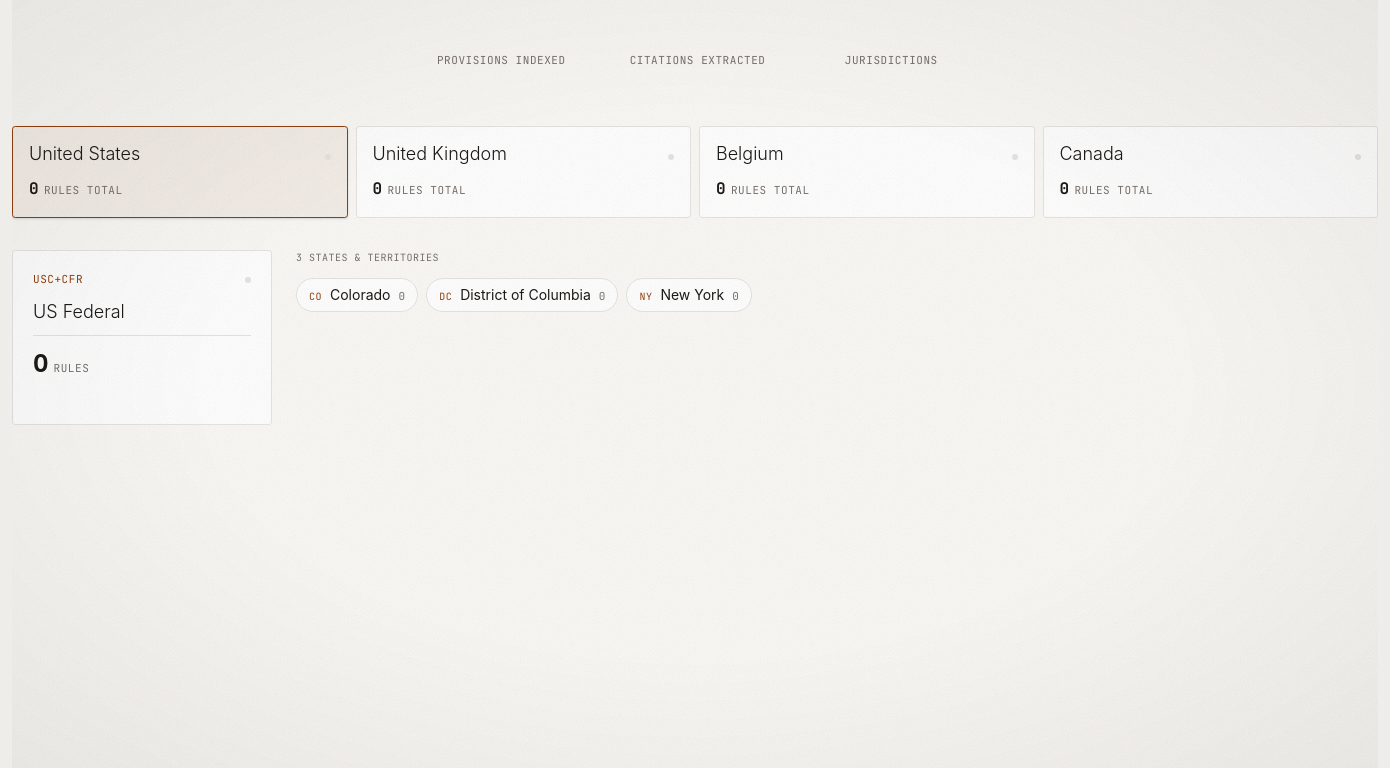
Test: AxiomStats › shows Belgium sub-jurisdictions when RuleSpec counts are present
Click the tab "Belgium 0 rules total" at (750, 153), box x1=699 y1=126 x2=1034 y2=218
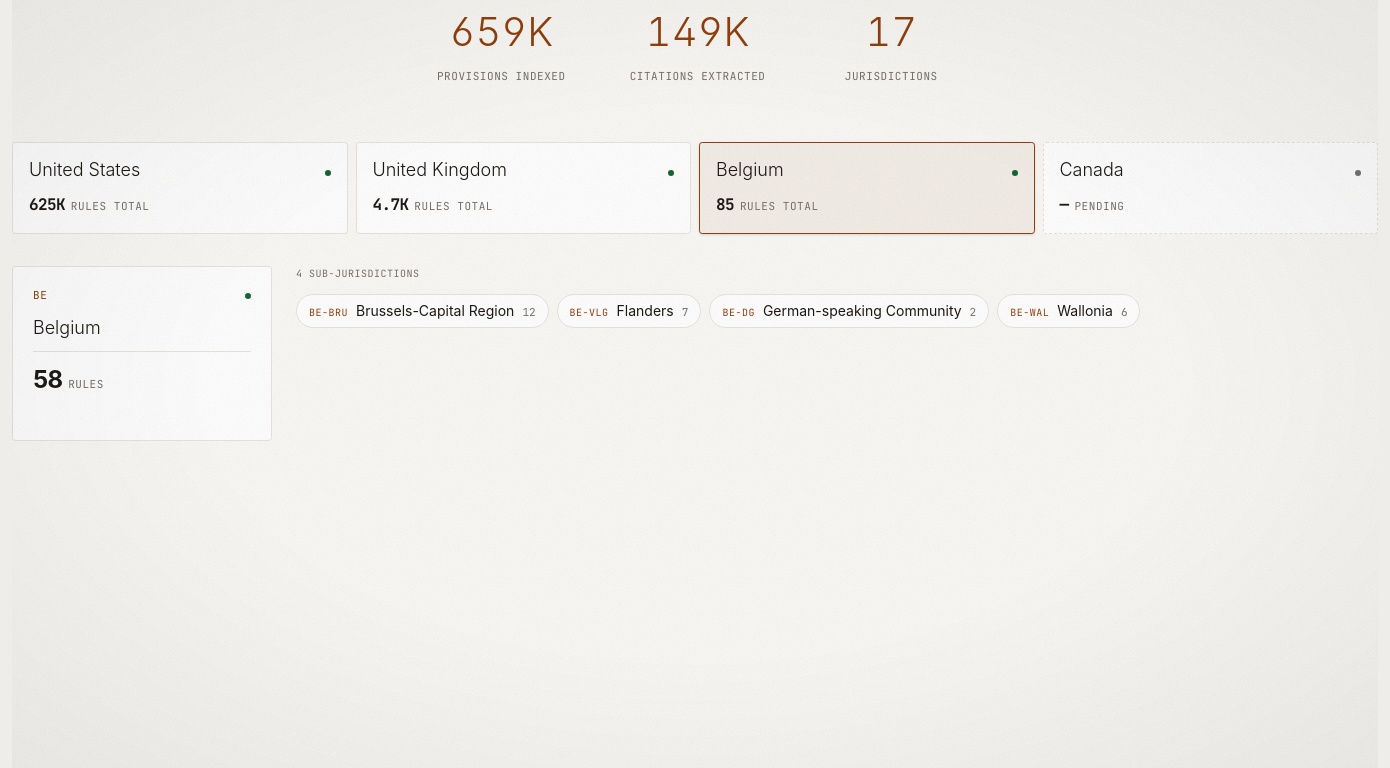
Result: the text "Brussels-Capital Region" is shown at x1=356 y1=301 x2=514 y2=321
Result: the text "Flanders" is shown at x1=617 y1=301 x2=674 y2=321
Result: the text "Wallonia" is shown at x1=1057 y1=301 x2=1113 y2=321
